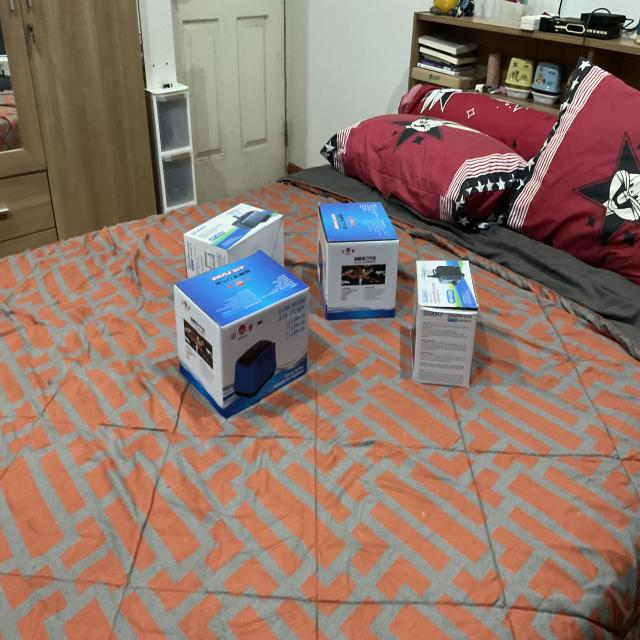SOBO_WP_4200: (175, 172, 290, 302), (406, 232, 492, 392)
YAMANO_LPP_20: (160, 229, 316, 402), (310, 181, 410, 324)
